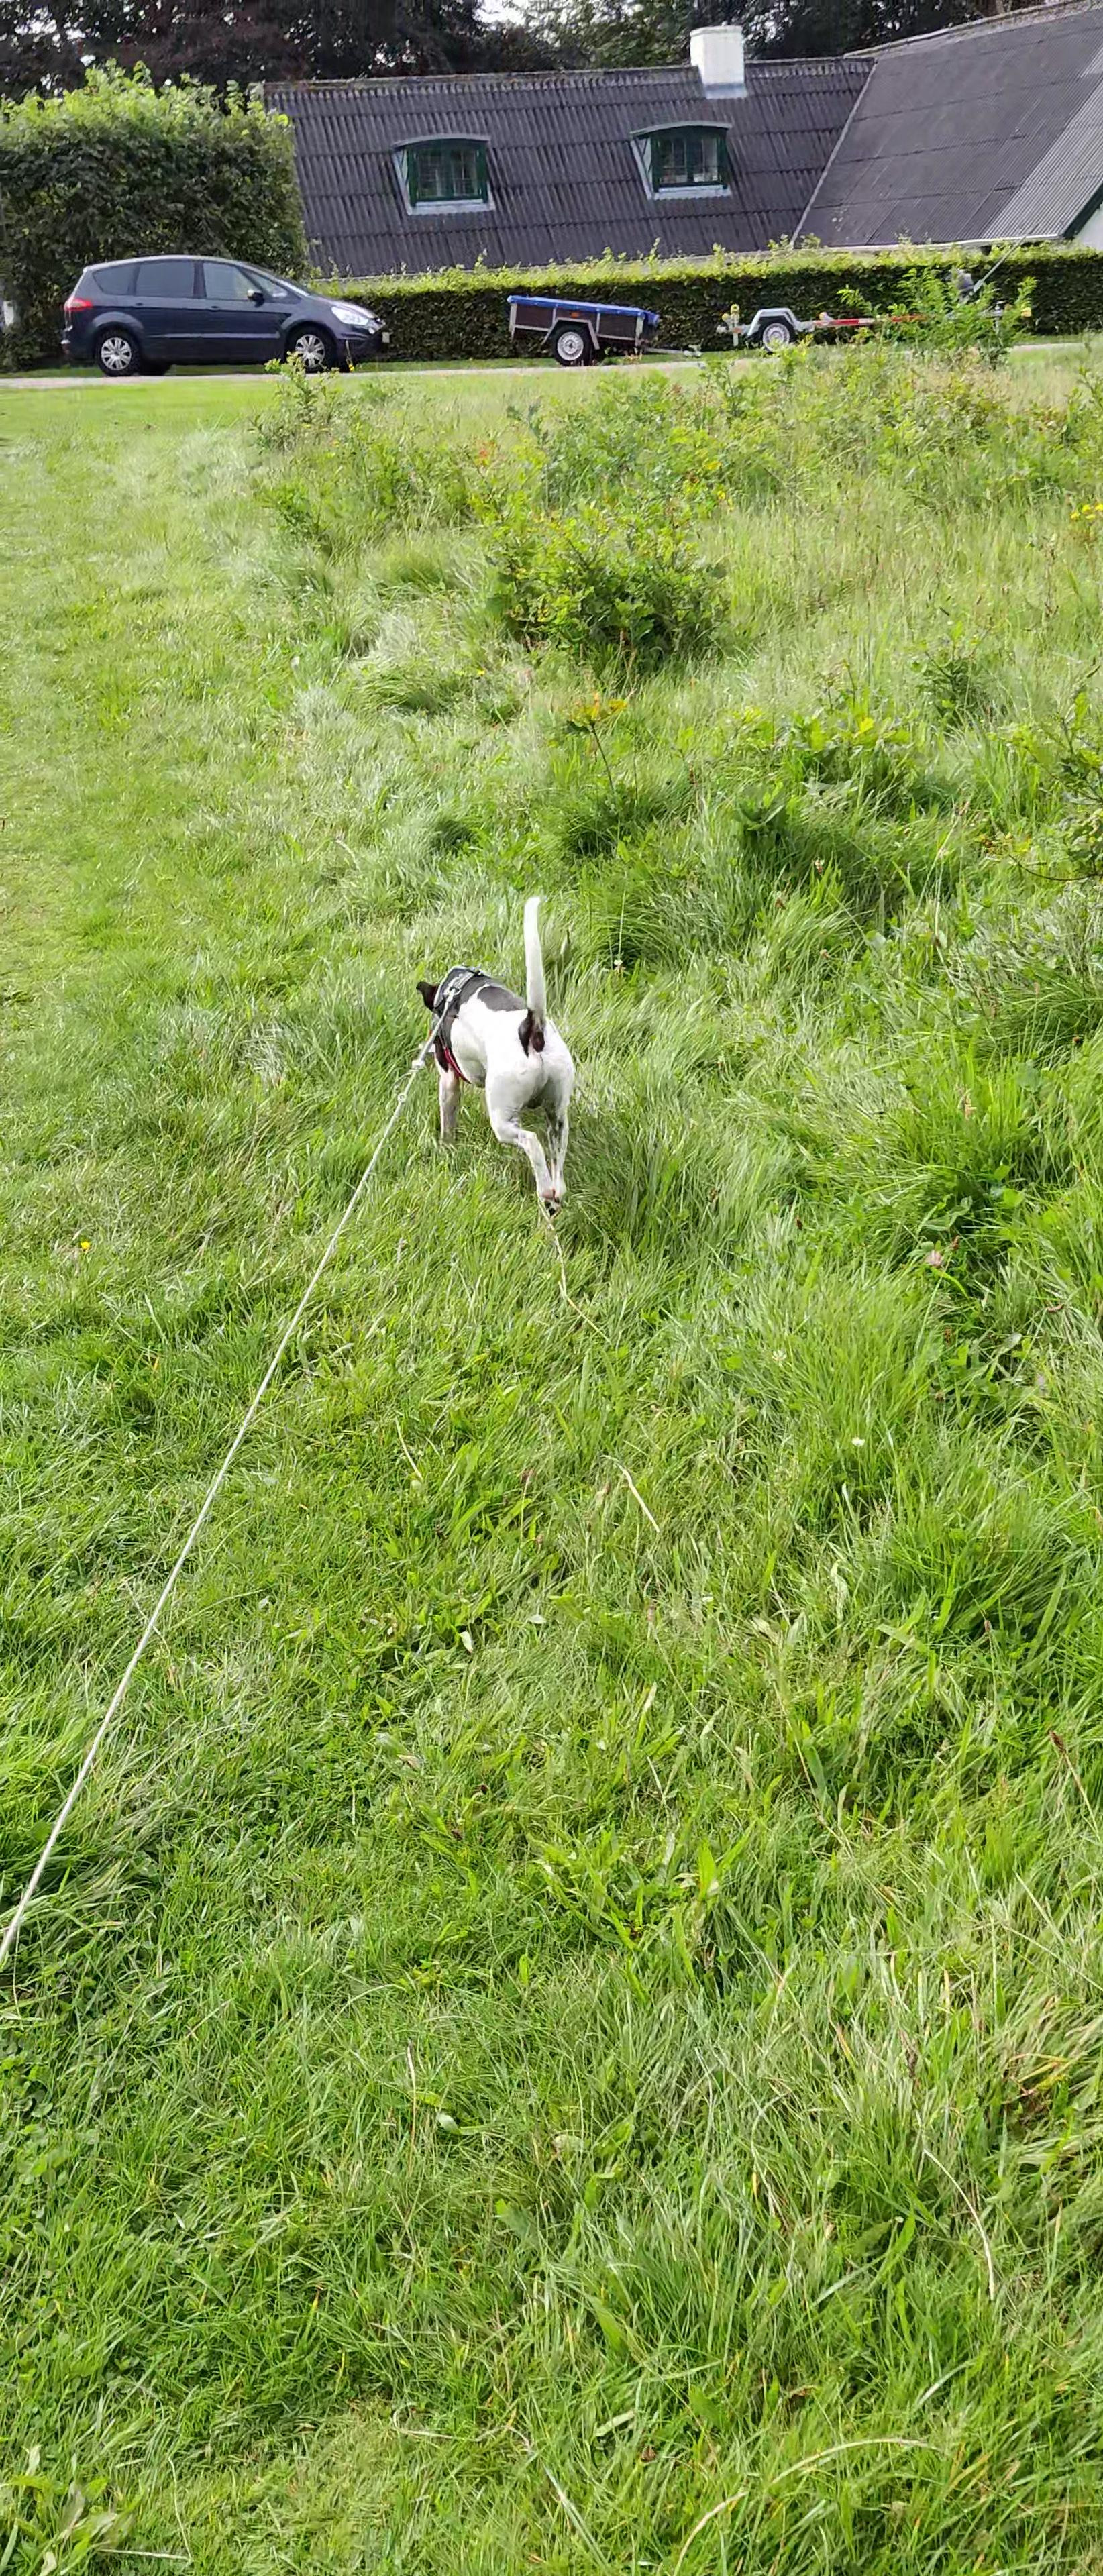Dog: (403, 885, 602, 1227)
